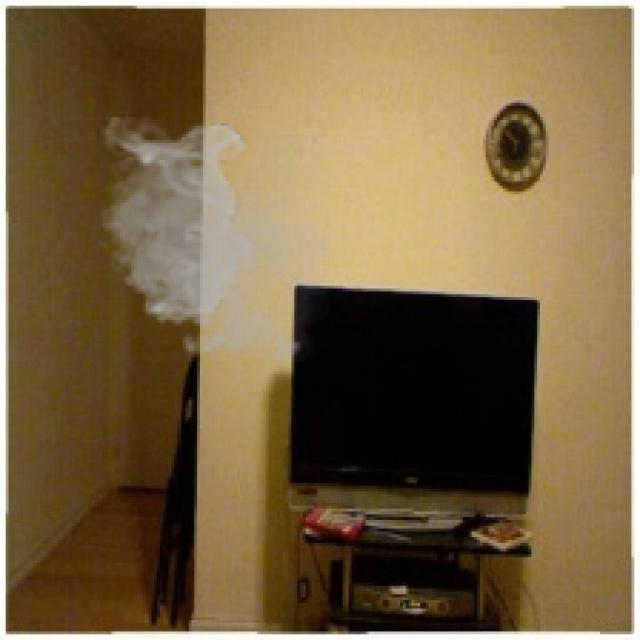smoke: (92, 117, 328, 372)
